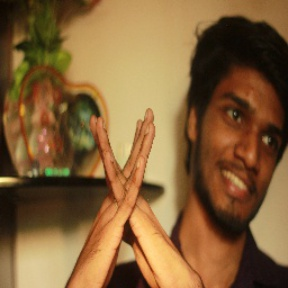W: (80, 99, 177, 277)
